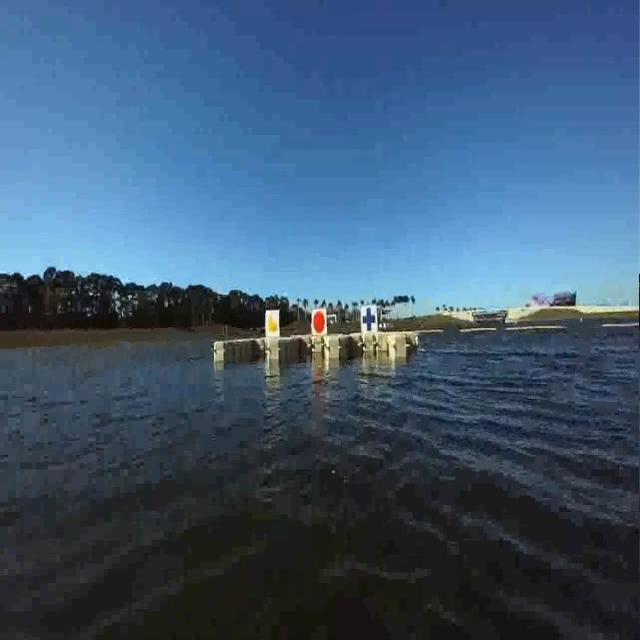blue-cross: (361, 304, 379, 336)
red-dot: (314, 310, 326, 330)
yellow-duck: (269, 313, 280, 331)
